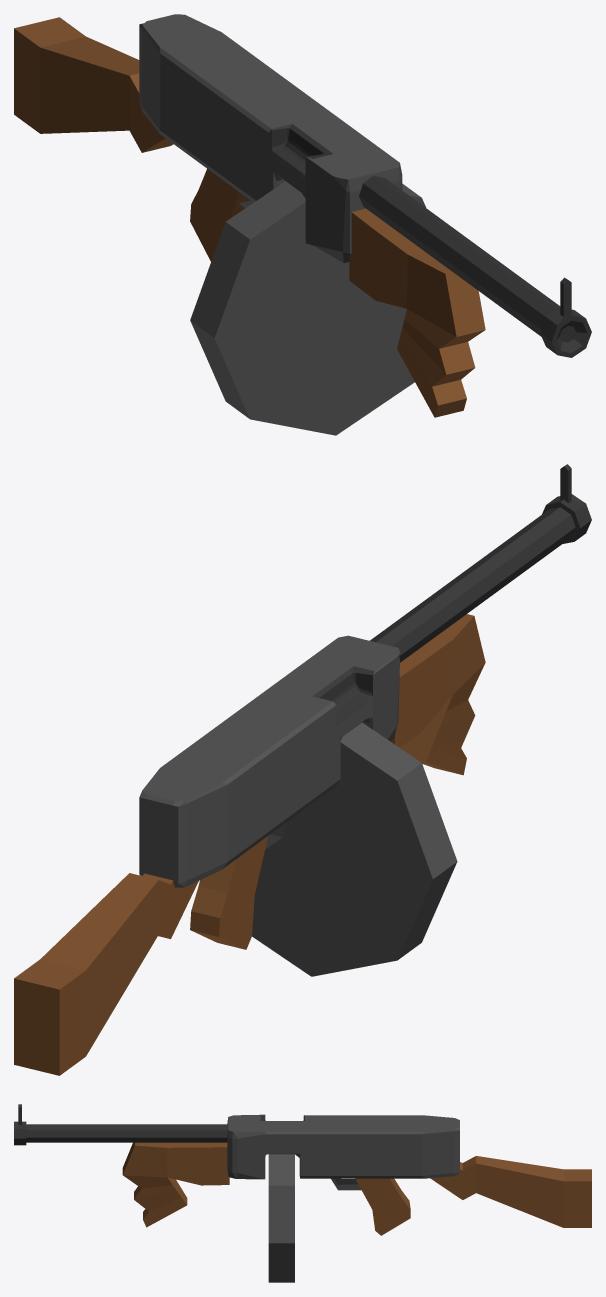
The model's file is arma_1_04.fbx.
The picture shows the model from 3 angles, top to bottom: view 1: azimuth 30°, elevation 25°; view 2: azimuth 150°, elevation 25°; view 3: azimuth 270°, elevation 25°; orthographic projection. The views are drawn at different scales.
Parts seen in each view (by area): view 1: 6; view 2: 6; view 3: 6.
Part boxes in pixels (x1,y1,x2,y2): 6: (14, 14, 591, 435); 6: (14, 464, 591, 1075); 6: (14, 1104, 591, 1282).
Bounding box in the file's own units: 20.93 × 26.79 × 79.84.
